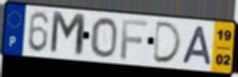6: (27, 9, 51, 55)
A: (180, 25, 214, 67)
D: (151, 20, 184, 65)
F: (119, 18, 149, 61)
M: (48, 10, 88, 60)
O: (90, 16, 119, 59)
